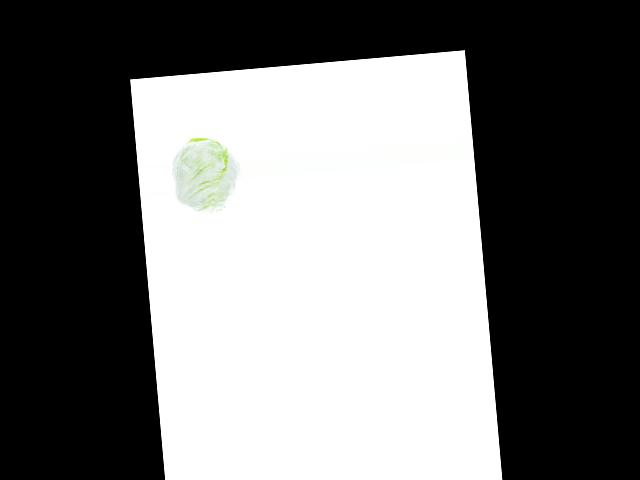lettuce: (173, 136, 242, 214)
